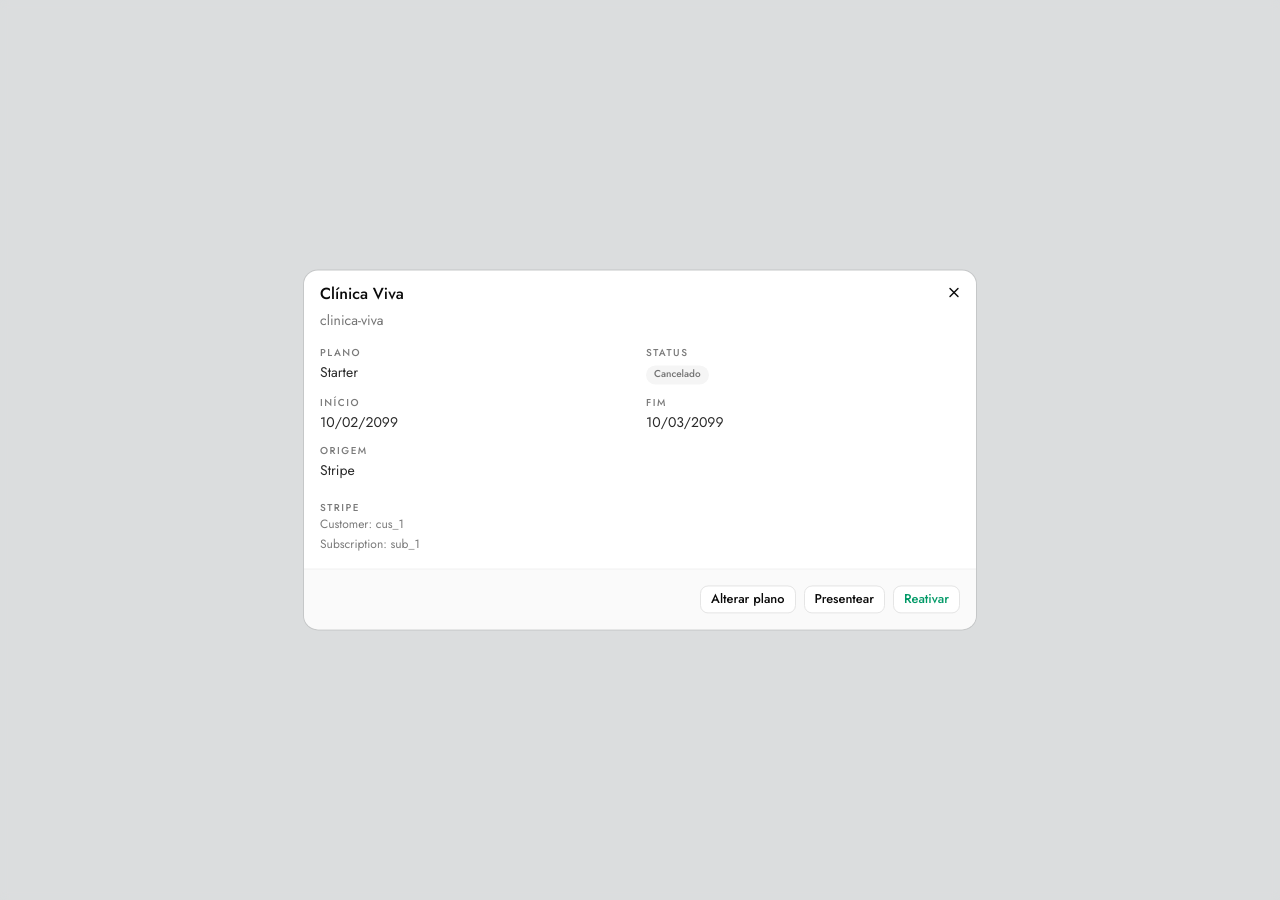
SubscriptionDetailDialog on a Stripe subscription › explains a pending cancellation (BR date) instead of offering a reactivation
Click the button "Reativar" at (926, 600), box [893,586,960,614]
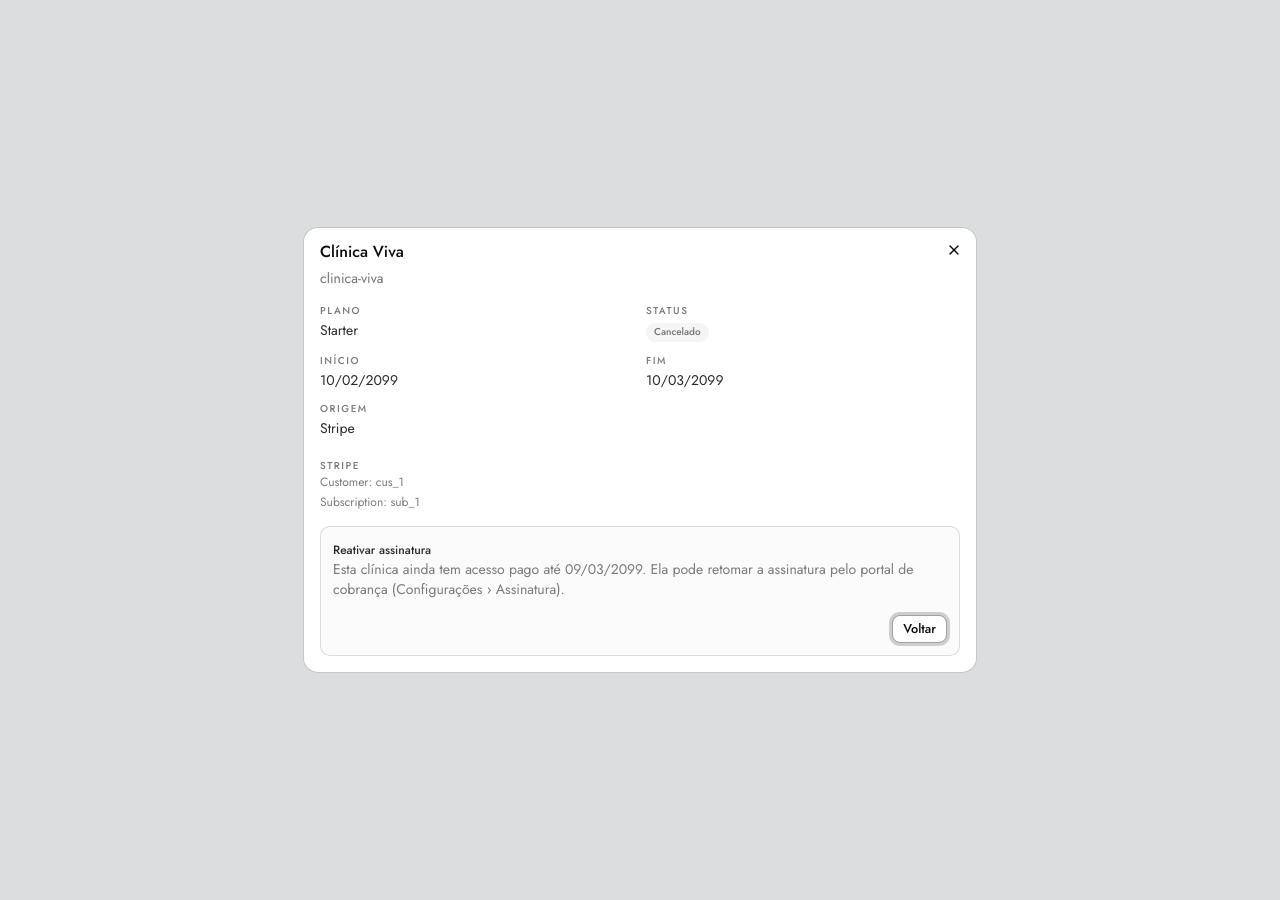
Check: the text with test id "admin-stripe-reactivation-blocked" shows "acesso pago até 09/03/2099", box [333,559,913,599]
